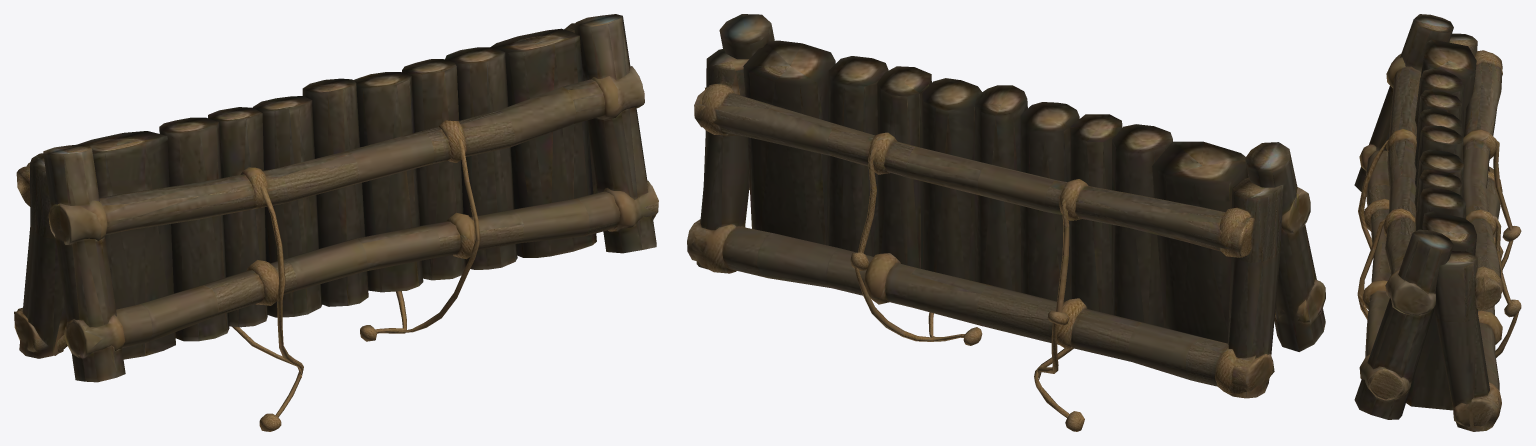
The model's file is meshy-raft.glb.
3 renders of one model, left to right at view 1: azimuth 30°, elevation 25°; view 2: azimuth 150°, elevation 25°; view 3: azimuth 270°, elevation 25°, orthographic. The views are drawn at different scales.
Bounding box in the file's own units: 1.79 × 0.9999 × 0.5426.
Materials: 1 (1 with a texture image).
